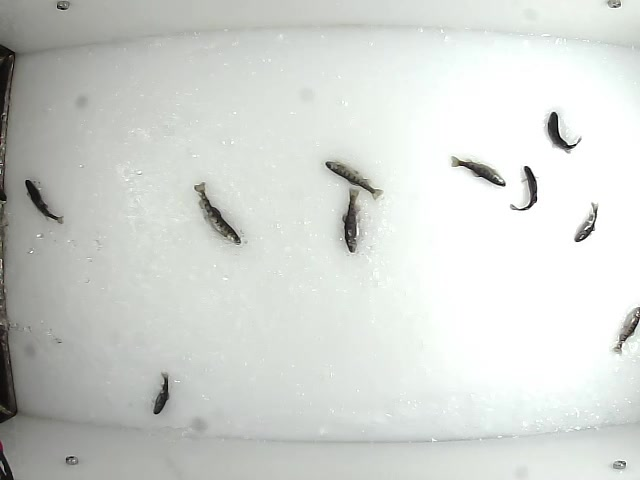fish: (193, 179, 242, 244), (323, 157, 384, 204), (446, 152, 509, 191), (26, 178, 67, 226), (544, 110, 585, 155), (339, 184, 364, 255), (506, 164, 539, 214), (610, 305, 640, 357), (573, 198, 598, 244), (150, 370, 171, 416)
